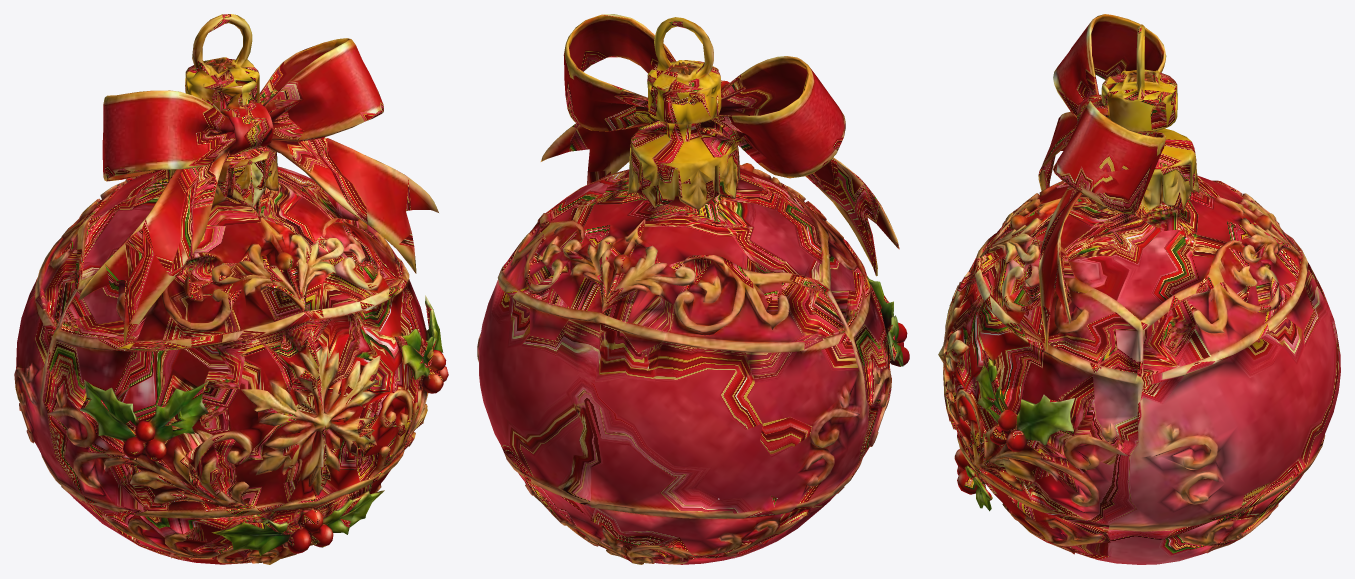
The model's file is ball-red.glb.
3 renders of one model, left to right at view 1: azimuth 30°, elevation 25°; view 2: azimuth 150°, elevation 25°; view 3: azimuth 270°, elevation 25°, orthographic. The views are drawn at different scales.
Parts seen in each view (by area): view 1: tripo_node_926eedfe-2829-4dac-a8a5-a89ebafe1f10; view 2: tripo_node_926eedfe-2829-4dac-a8a5-a89ebafe1f10; view 3: tripo_node_926eedfe-2829-4dac-a8a5-a89ebafe1f10.
Part boxes in pixels (x1,y1,x2,y2): tripo_node_926eedfe-2829-4dac-a8a5-a89ebafe1f10: (14,14,448,564); tripo_node_926eedfe-2829-4dac-a8a5-a89ebafe1f10: (477,14,909,564); tripo_node_926eedfe-2829-4dac-a8a5-a89ebafe1f10: (938,14,1340,564).
Size of the model in its own units: 0.7035 by 0.9798 by 0.6879.
Materials: 1 (1 with a texture image).
